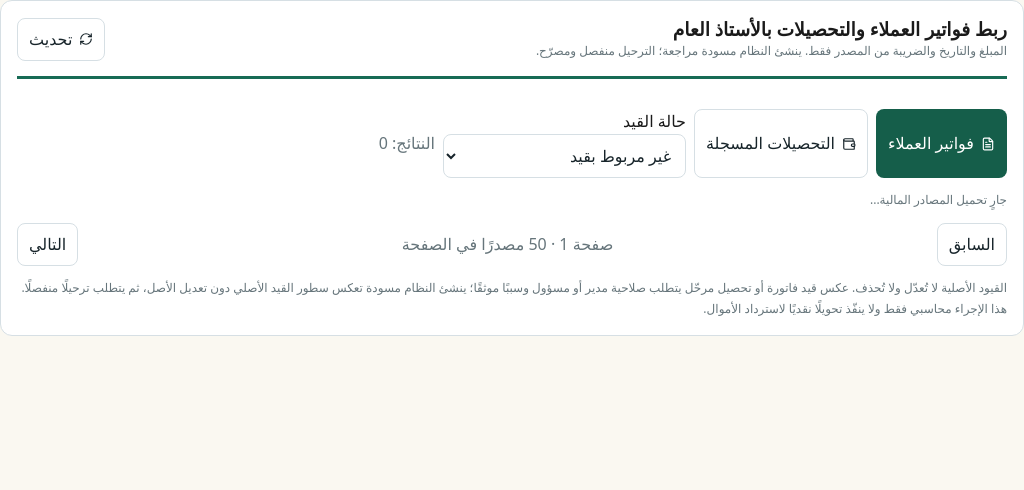
Test: invoice/payment journal source integration › requires a posted invoice journal before offering a payment draft
Click the button "التحصيلات المسجلة": click(781, 144) [694,109,868,178]
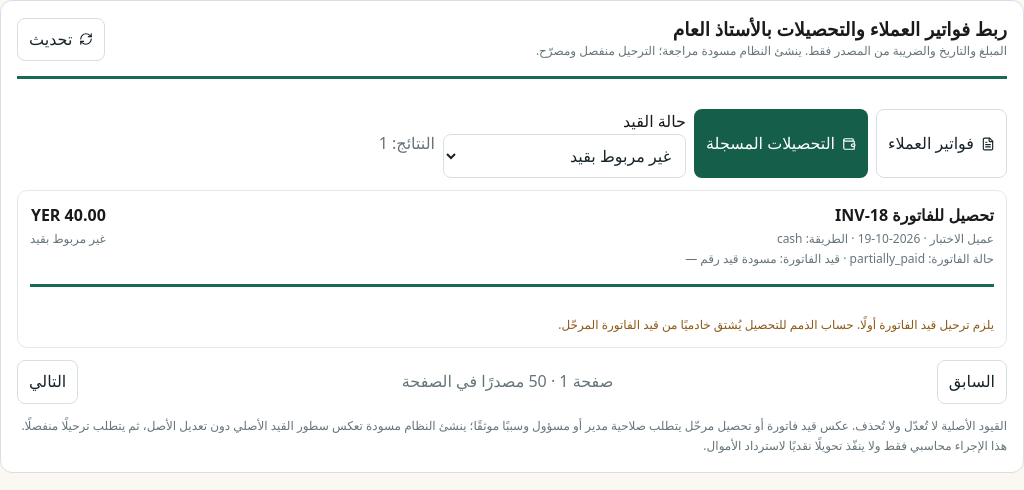
Now the text "يلزم ترحيل قيد الفاتورة أولًا" is shown, box [558,316,994,333]
